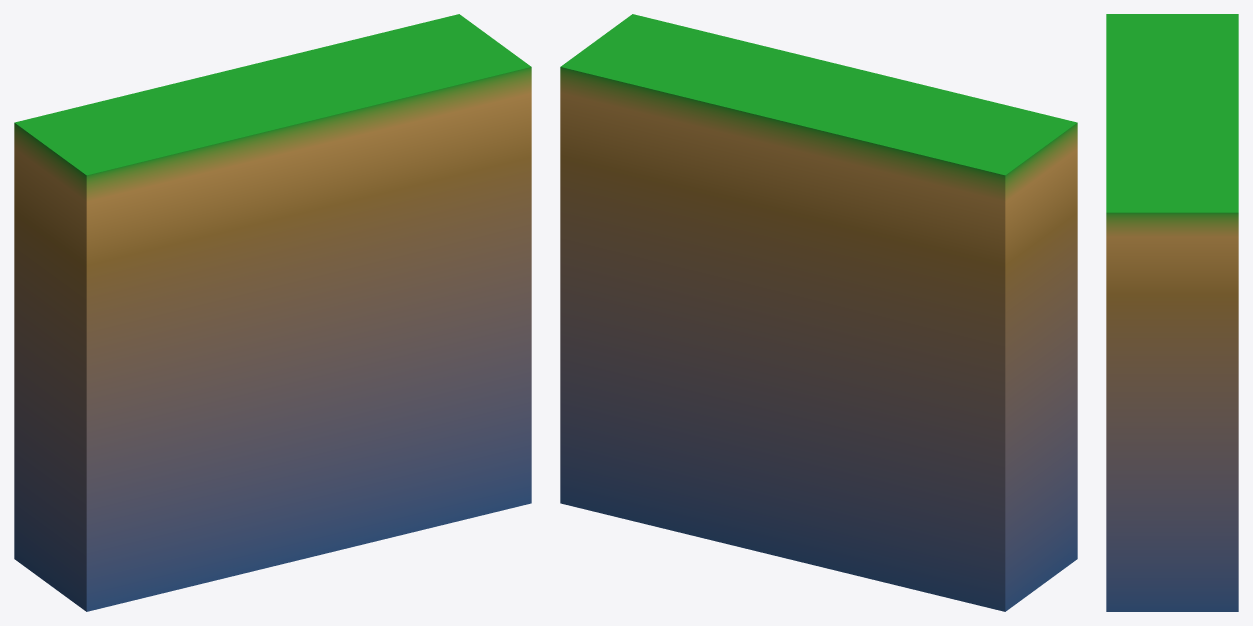
The model's file is ContraLand.fbx.
3 views of the same model, side by side, from view 1: azimuth 30°, elevation 25°; view 2: azimuth 150°, elevation 25°; view 3: azimuth 270°, elevation 25° (orthographic). The views are drawn at different scales.
Parts seen in each view (by area): view 1: Cube; view 2: Cube; view 3: Cube.
Part boxes in pixels (x1,y1,x2,y2): Cube: [14, 14, 531, 611]; Cube: [560, 14, 1077, 611]; Cube: [1106, 14, 1238, 611].
Size of the model in its own units: 1600 by 1500 by 450.
